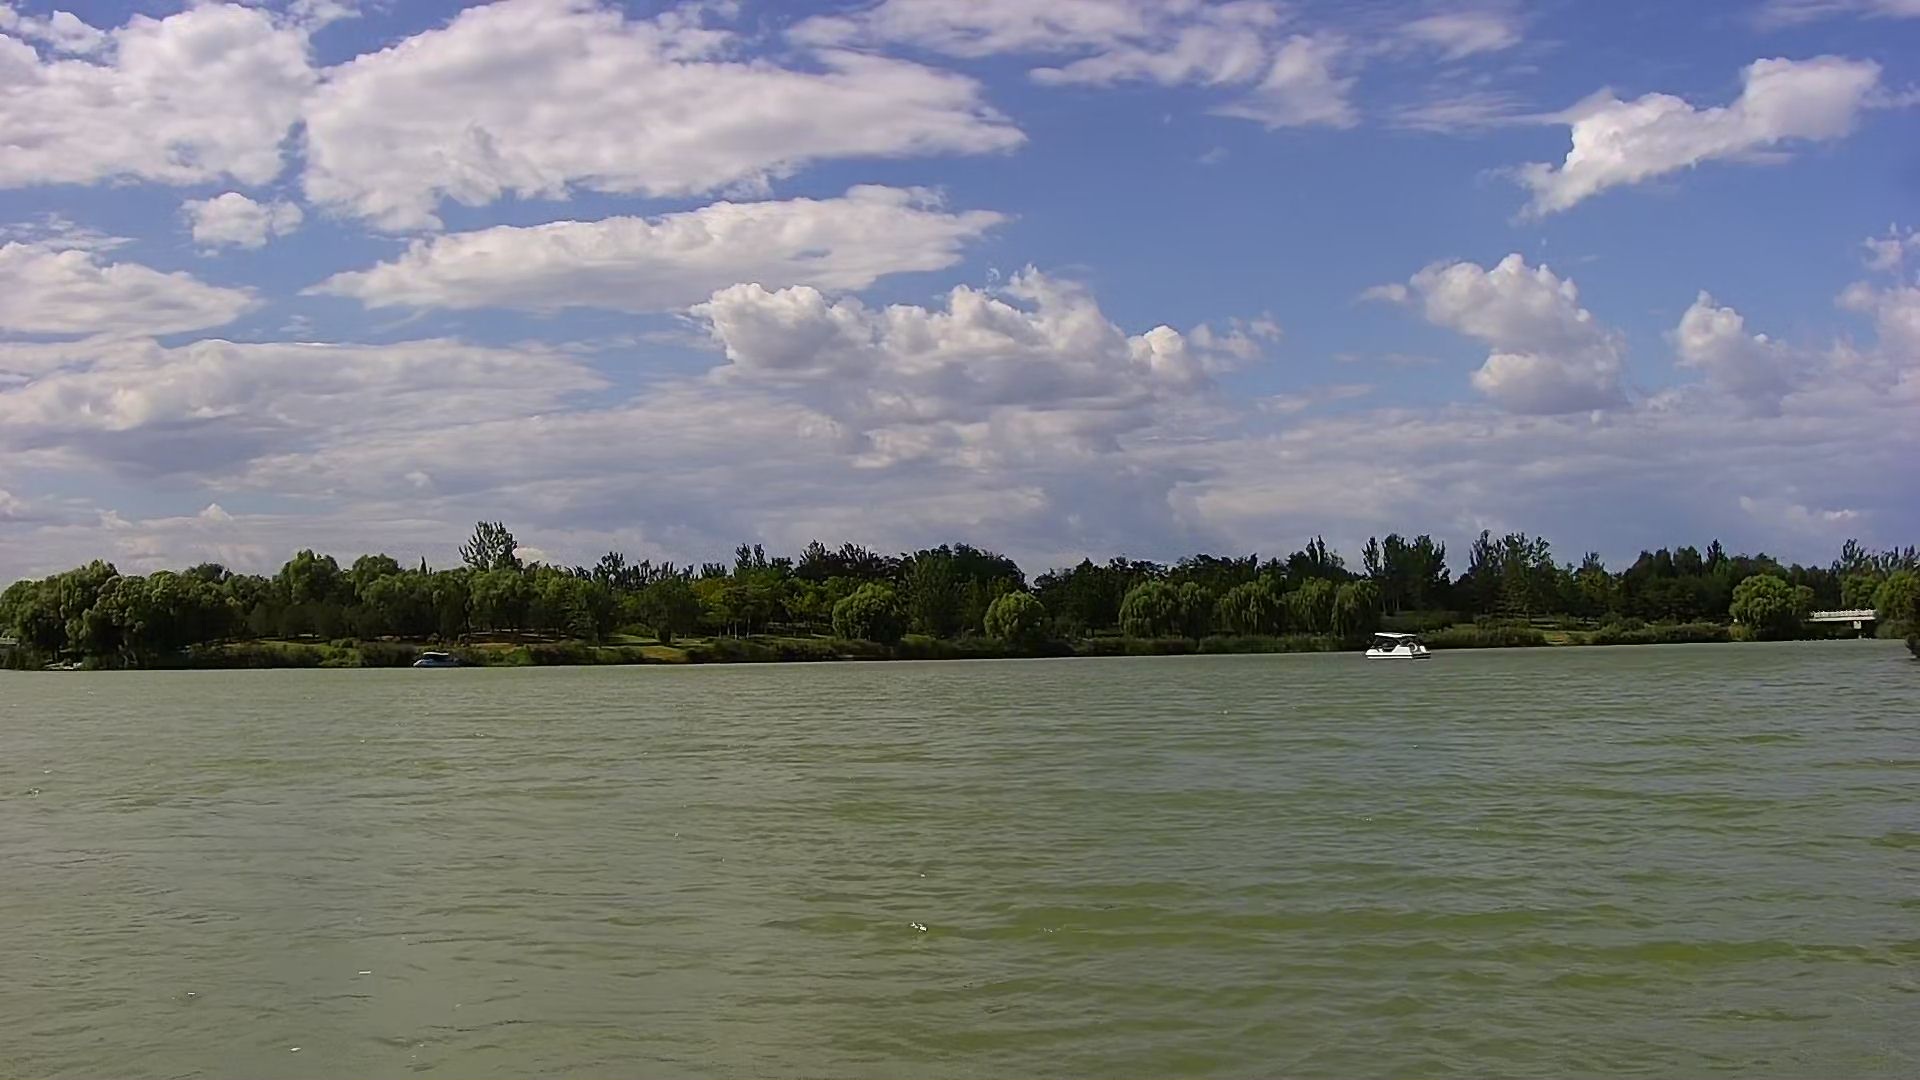boat: (1357, 628, 1443, 665), (405, 642, 468, 673)
